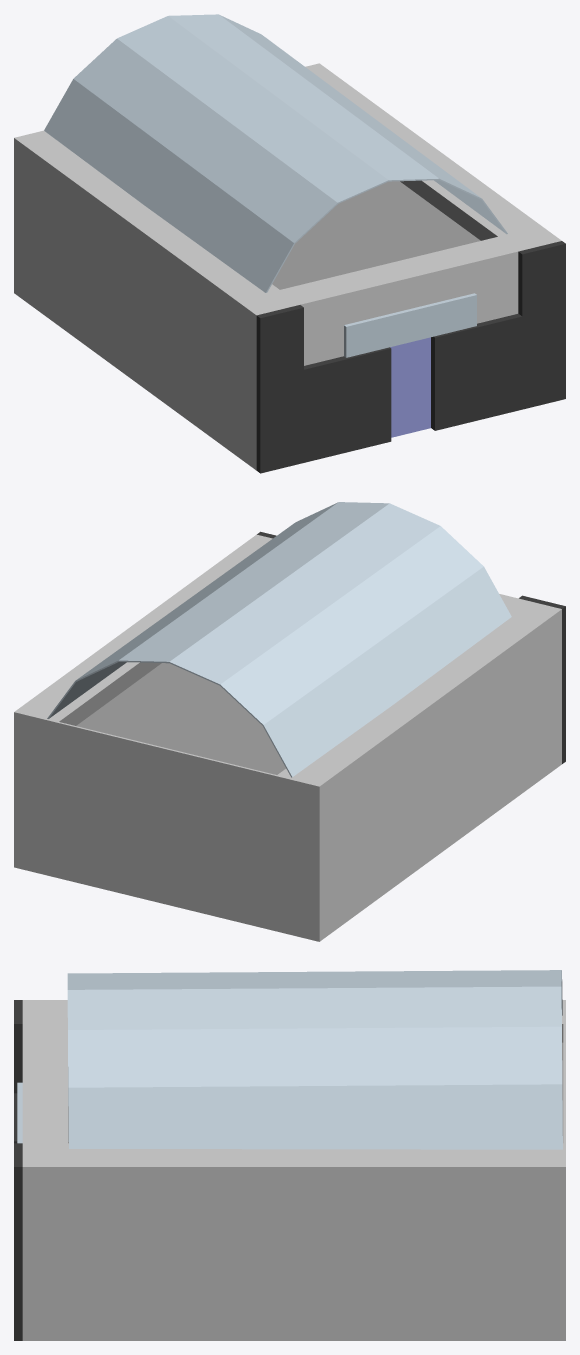
File: Mall.fbx
The picture shows the model from 3 angles, top to bottom: view 1: azimuth 30°, elevation 25°; view 2: azimuth 150°, elevation 25°; view 3: azimuth 270°, elevation 25°; orthographic projection. The views are drawn at different scales.
Parts seen in each view (by area): view 1: Cube, Cylinder; view 2: Cube, Cylinder; view 3: Cube, Cylinder.
Boxes of the visible parts, x1,y1,x2,y2 form: Cube: (14, 63, 565, 473); Cylinder: (44, 14, 507, 292); Cube: (14, 531, 565, 941); Cylinder: (47, 502, 511, 777); Cube: (14, 1000, 565, 1340); Cylinder: (67, 970, 562, 1149).
Bounding box in the file's own units: 2296 × 1735 × 3208.
